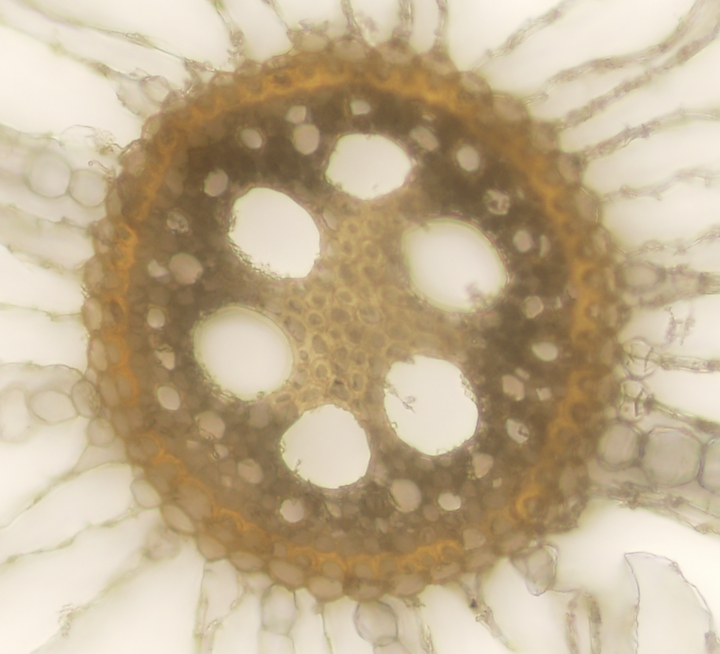lm: (401, 216, 511, 313), (189, 304, 296, 403), (383, 353, 478, 456), (226, 185, 320, 279), (278, 403, 370, 488), (325, 133, 417, 200)
